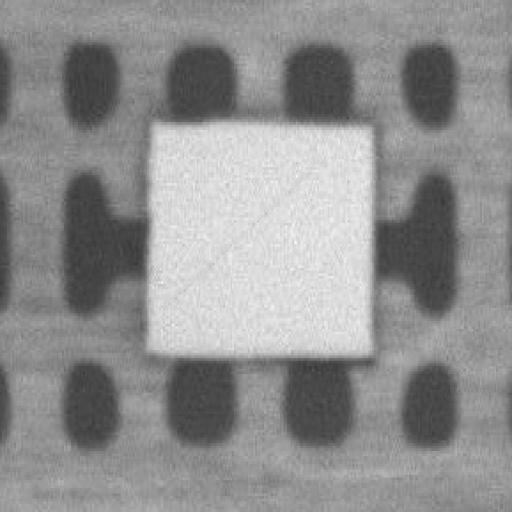DIE_CRACK: (242, 104, 480, 204)
